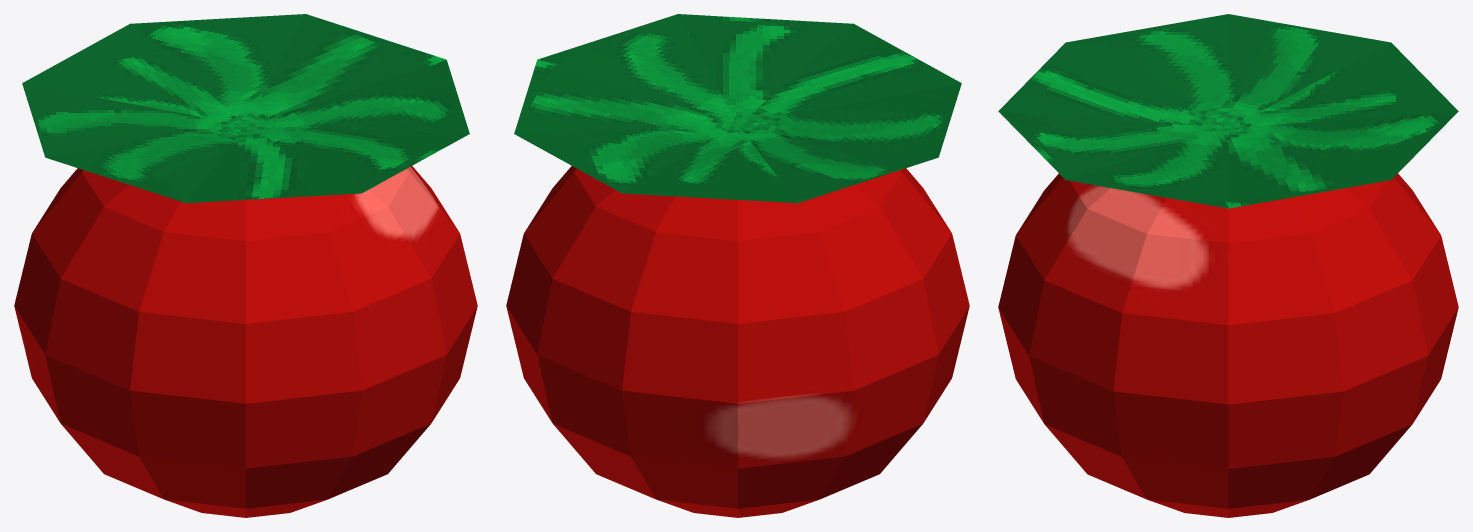
The model's file is tomato_lowpoly.glb.
3 views of the same model, side by side, from view 1: azimuth 30°, elevation 25°; view 2: azimuth 150°, elevation 25°; view 3: azimuth 270°, elevation 25° (orthographic).
Parts seen in each view (by area): view 1: Sphere, Circle; view 2: Sphere, Circle; view 3: Sphere, Circle.
Part boxes in pixels (x1,y1,x2,y2): Sphere: [14, 166, 477, 517]; Circle: [22, 14, 469, 203]; Sphere: [506, 166, 969, 517]; Circle: [514, 14, 961, 203]; Sphere: [998, 173, 1458, 517]; Circle: [998, 14, 1458, 208].
Size of the model in its own units: 2 by 1.84 by 2.
Materials: 2 (2 with a texture image).
